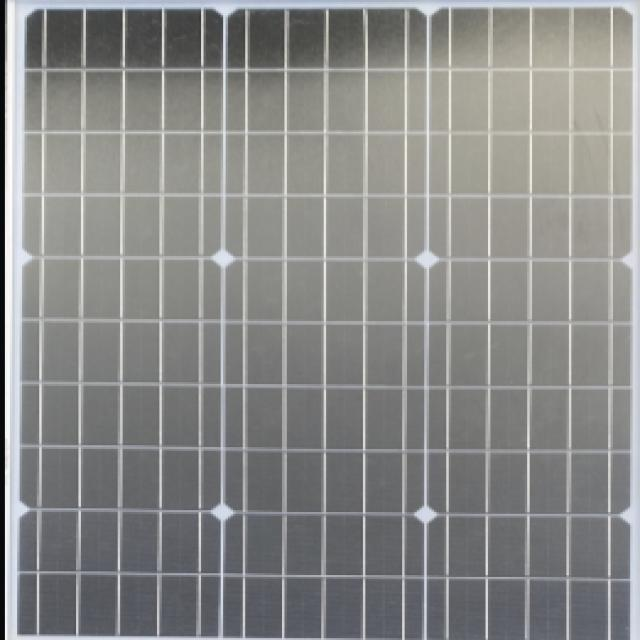dust-solar-panel: (20, 8, 630, 640)
